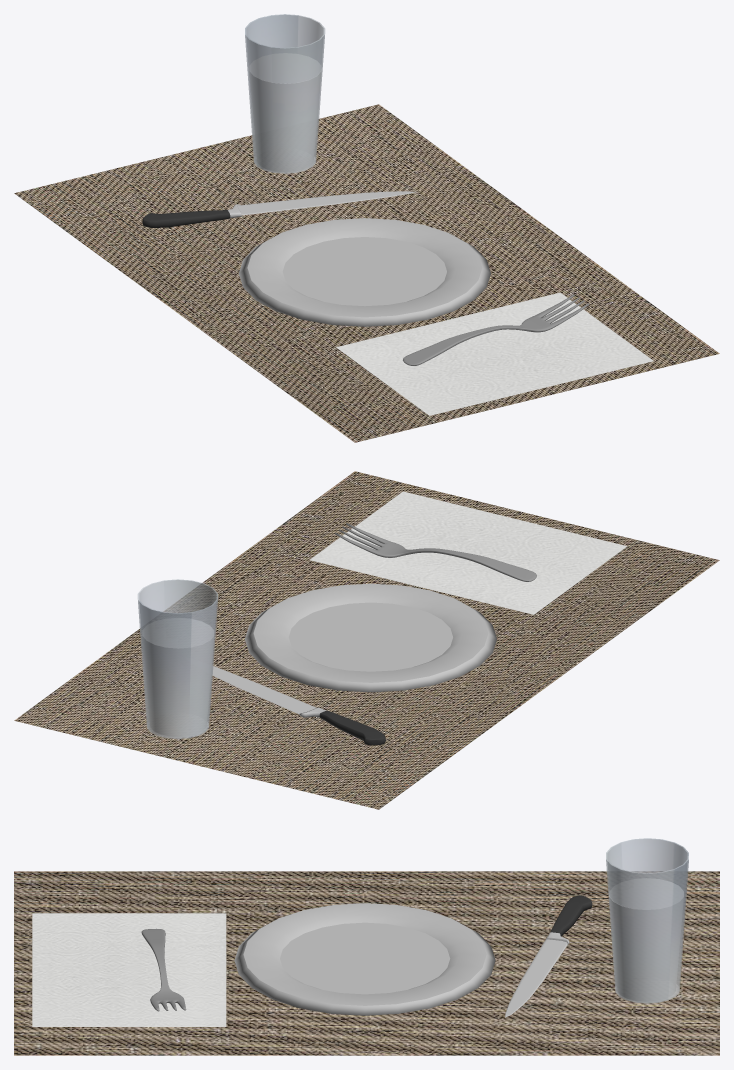
3 views of the same model, one above another, from view 1: azimuth 30°, elevation 25°; view 2: azimuth 150°, elevation 25°; view 3: azimuth 270°, elevation 25° (orthographic). The views are drawn at different scales.
Parts seen in each view (by area): view 1: Mat, Dish, Towel, Glass, Knife, Fork; view 2: Mat, Dish, Towel, Glass, Knife, Fork; view 3: Mat, Dish, Towel, Glass, Knife, Fork.
Part boxes in pixels (left/top/right/bottom): Mat: left=14, top=104, right=719, bottom=442; Dish: left=239, top=218, right=490, bottom=326; Towel: left=336, top=292, right=653, bottom=415; Glass: left=245, top=14, right=325, bottom=173; Knife: left=142, top=191, right=415, bottom=227; Fork: left=403, top=294, right=589, bottom=365; Mat: left=14, top=471, right=719, bottom=809; Dish: left=245, top=583, right=496, bottom=692; Towel: left=310, top=491, right=627, bottom=614; Glass: left=137, top=579, right=217, bottom=738; Knife: left=212, top=666, right=385, bottom=745; Fork: left=335, top=523, right=536, bottom=581; Mat: left=14, top=871, right=719, bottom=1055; Dish: left=234, top=903, right=495, bottom=1015; Towel: left=32, top=913, right=226, bottom=1026; Glass: left=606, top=838, right=688, bottom=1003; Knife: left=505, top=895, right=592, bottom=1017; Fork: left=141, top=928, right=186, bottom=1011.
Bounding box in the file's own units: 297 × 101 × 481.
Materials: 9 (3 with a texture image).
